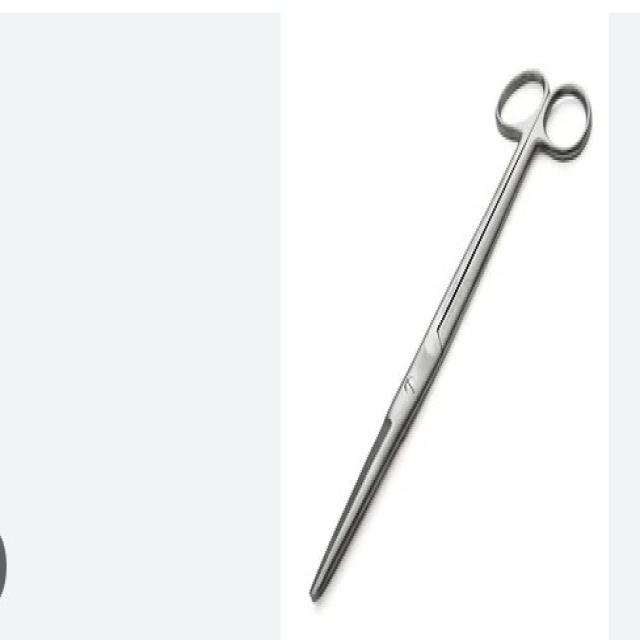Straight Mayo: (300, 26, 596, 624)
